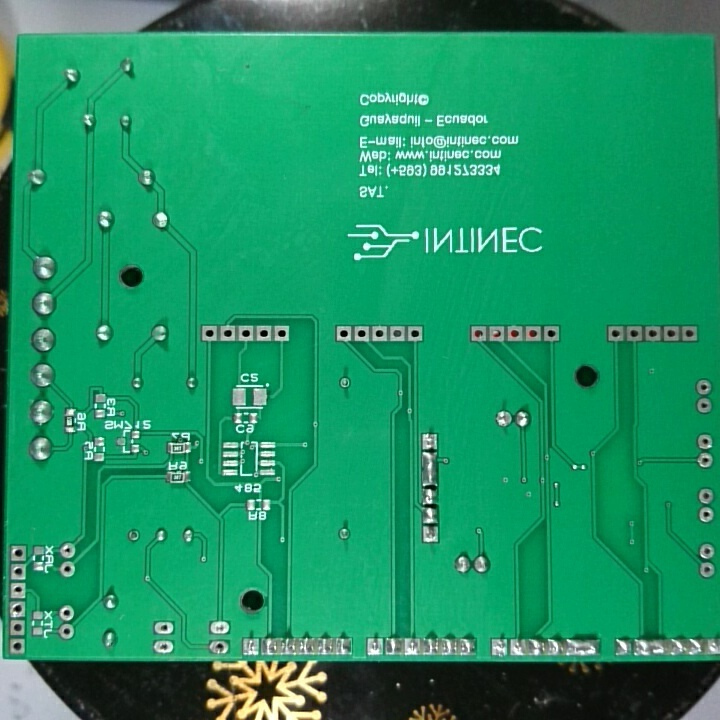F: (695, 502, 719, 526), (239, 635, 262, 660), (493, 406, 515, 432), (419, 523, 441, 547), (6, 634, 29, 656), (57, 558, 79, 580), (419, 432, 443, 452), (151, 638, 176, 657), (271, 323, 293, 344), (693, 375, 713, 398), (206, 638, 233, 655), (490, 635, 508, 660), (8, 616, 29, 637), (699, 557, 719, 579), (487, 324, 507, 346), (468, 322, 488, 344), (364, 638, 386, 658), (236, 320, 255, 343), (508, 635, 527, 658), (7, 580, 28, 600), (696, 429, 715, 451), (696, 449, 715, 471), (696, 542, 718, 561), (200, 323, 219, 345), (208, 619, 234, 635), (623, 322, 641, 345), (662, 323, 679, 347), (695, 395, 715, 415), (333, 323, 353, 343), (151, 620, 176, 636), (543, 322, 562, 343), (525, 320, 541, 344), (9, 543, 28, 563), (9, 562, 28, 582), (7, 599, 27, 618), (59, 543, 79, 562), (403, 638, 422, 658), (698, 485, 716, 506), (406, 324, 424, 345), (643, 322, 660, 344), (506, 323, 523, 345), (680, 323, 698, 343), (353, 323, 371, 343), (372, 324, 388, 346), (607, 321, 621, 346), (255, 323, 272, 343), (219, 323, 236, 343), (389, 325, 407, 343), (336, 374, 354, 392), (124, 526, 142, 544), (58, 605, 76, 623), (58, 620, 77, 637), (706, 635, 720, 658)
P: (633, 638, 670, 660), (421, 448, 441, 488), (564, 637, 602, 658)
